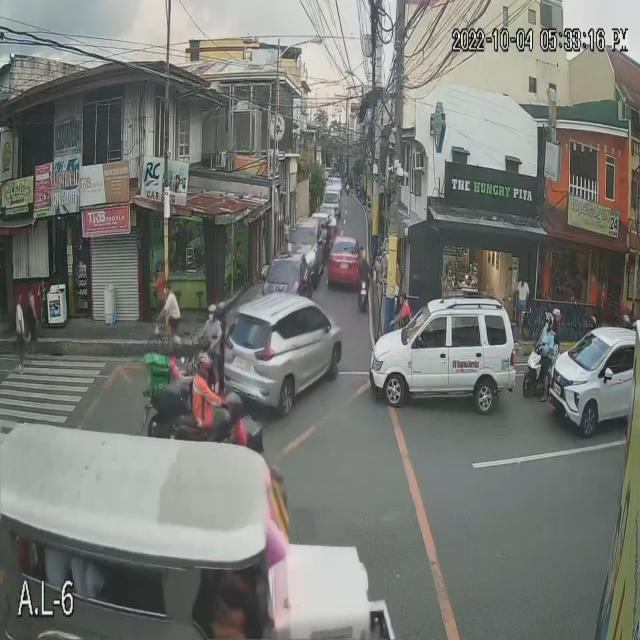Full-Faced: (196, 350, 211, 382), (549, 300, 565, 330)
Half-Faced: (170, 332, 187, 366), (211, 297, 227, 322), (544, 310, 555, 338)
Invalid: (204, 303, 217, 324)
